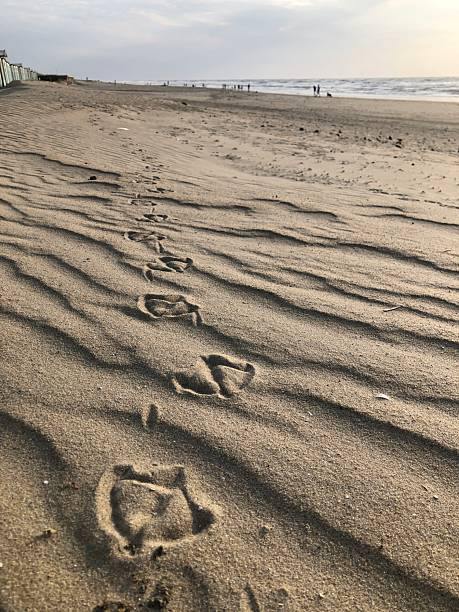animal_footprint: (97, 465, 214, 556), (173, 354, 254, 397), (137, 294, 202, 325), (143, 255, 192, 280), (124, 230, 165, 253), (124, 230, 165, 241), (139, 213, 168, 222)
